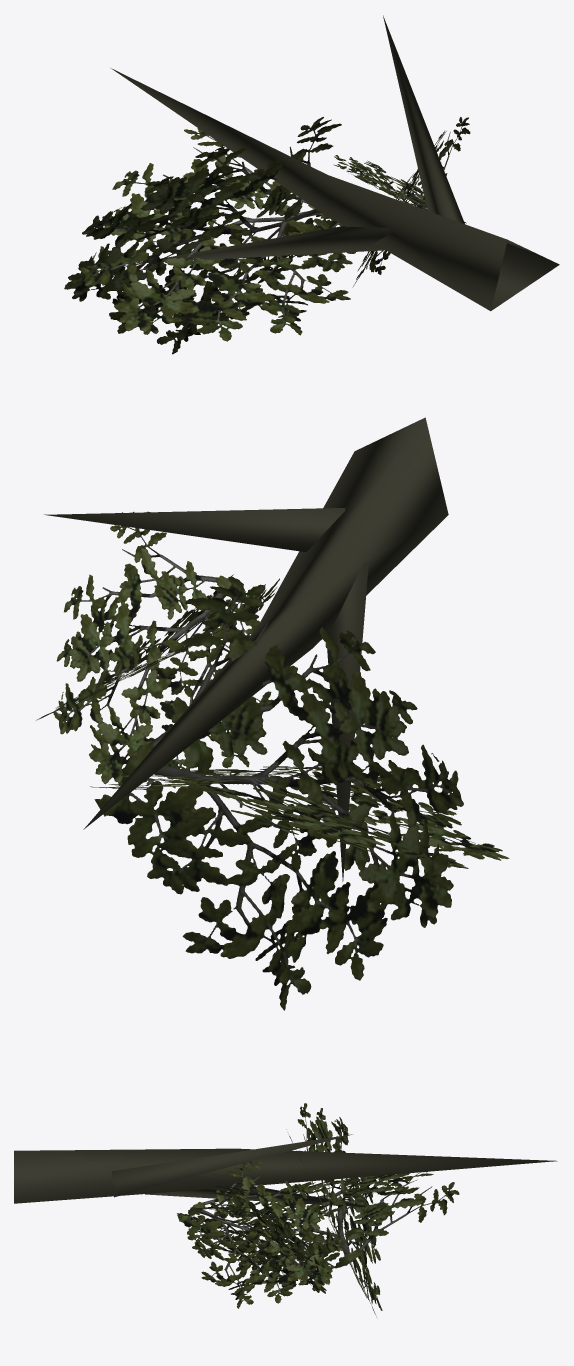
File: MEP_Oak_06_LOD_02.fbx
3 views of the same model, one above another, from view 1: azimuth 30°, elevation 25°; view 2: azimuth 150°, elevation 25°; view 3: azimuth 270°, elevation 25° (orthographic). The views are drawn at different scales.
Visible parts, largest first — view 1: MEP_Oak_06_LOD_02; view 2: MEP_Oak_06_LOD_02; view 3: MEP_Oak_06_LOD_02.
Part boxes in pixels (bbox=[...]): MEP_Oak_06_LOD_02: bbox=[64, 15, 559, 354]; MEP_Oak_06_LOD_02: bbox=[36, 417, 509, 1010]; MEP_Oak_06_LOD_02: bbox=[14, 1103, 557, 1318].
Size of the model in its own units: 11.71 by 9.25 by 15.68.
